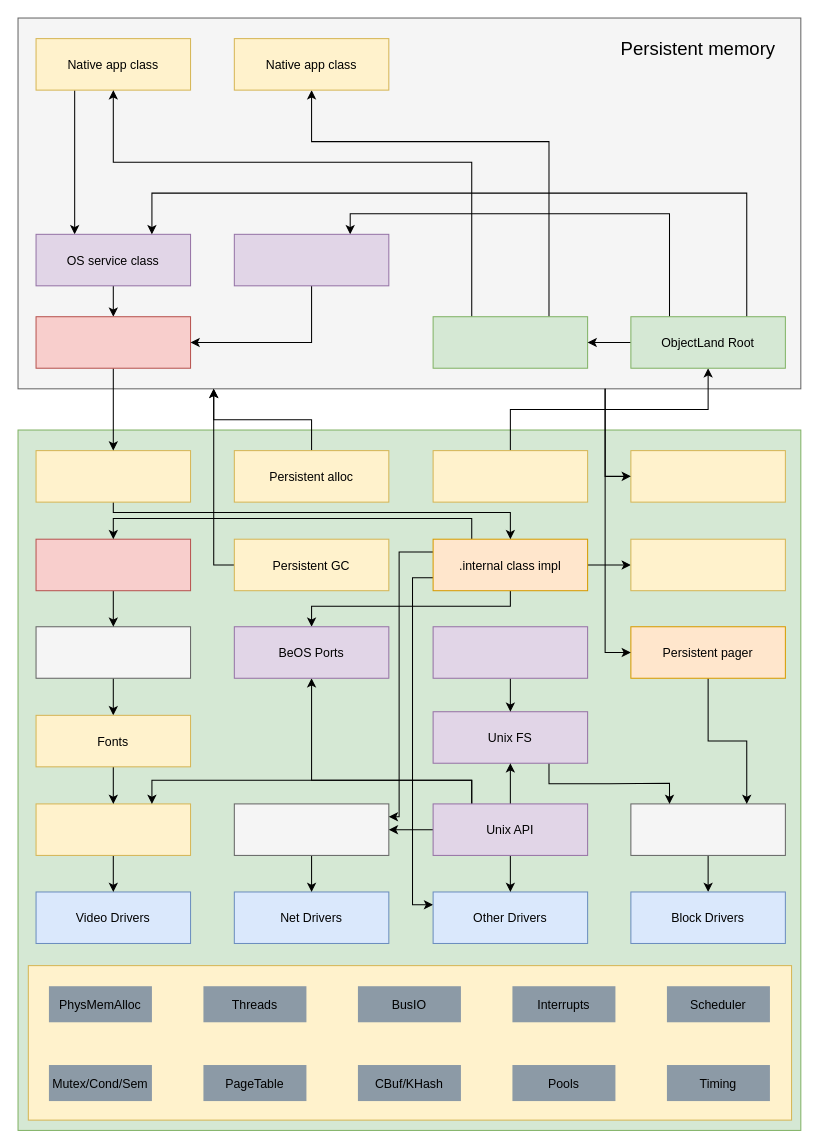
Image size: 819x1148. Some labels were removed from this diagram. The shapes that lost their labels are listed below. From the top down, each one's centre as x and y in pixels, then its label:
point 311,259: User Class loader
point 113,342: .internal class interface
point 510,342: Object Directory
point 113,476: Persistent Syscalls
point 510,476: Restart Manager
point 707,476: Bytecode VM
point 113,564: Controls
point 707,564: Class Loader
point 113,652: Windows
point 510,652: Unix ELF
point 113,829: Graphics
point 311,829: TCP/IP
point 707,829: Disk IO
